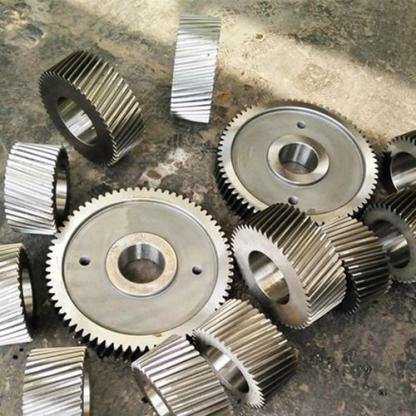FOD: (43, 183, 235, 355), (216, 96, 380, 225), (231, 200, 350, 334), (37, 46, 146, 168), (188, 293, 299, 409), (129, 330, 235, 415), (0, 135, 75, 238), (326, 212, 394, 318), (167, 10, 223, 132), (18, 341, 92, 415)
